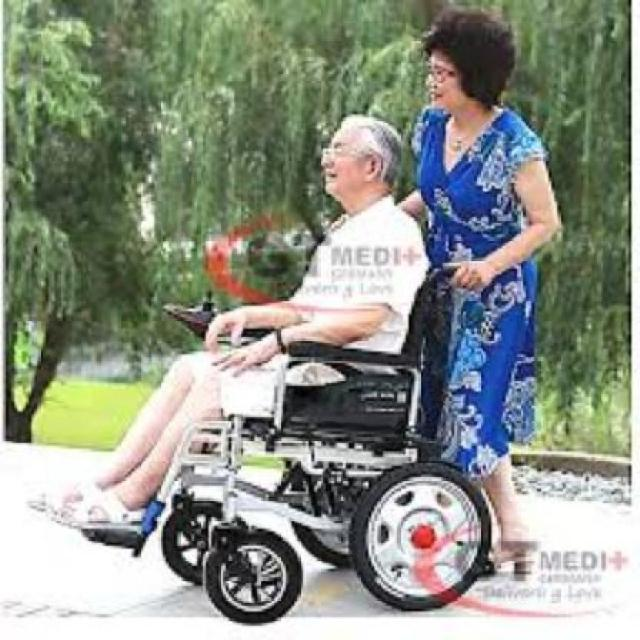wheelchairs: (164, 258, 493, 622)
